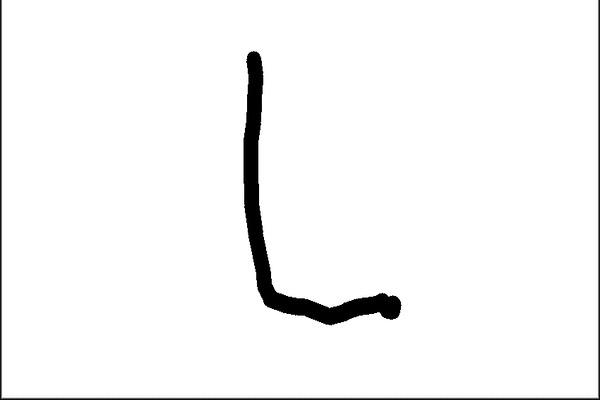L: (232, 46, 410, 328)
